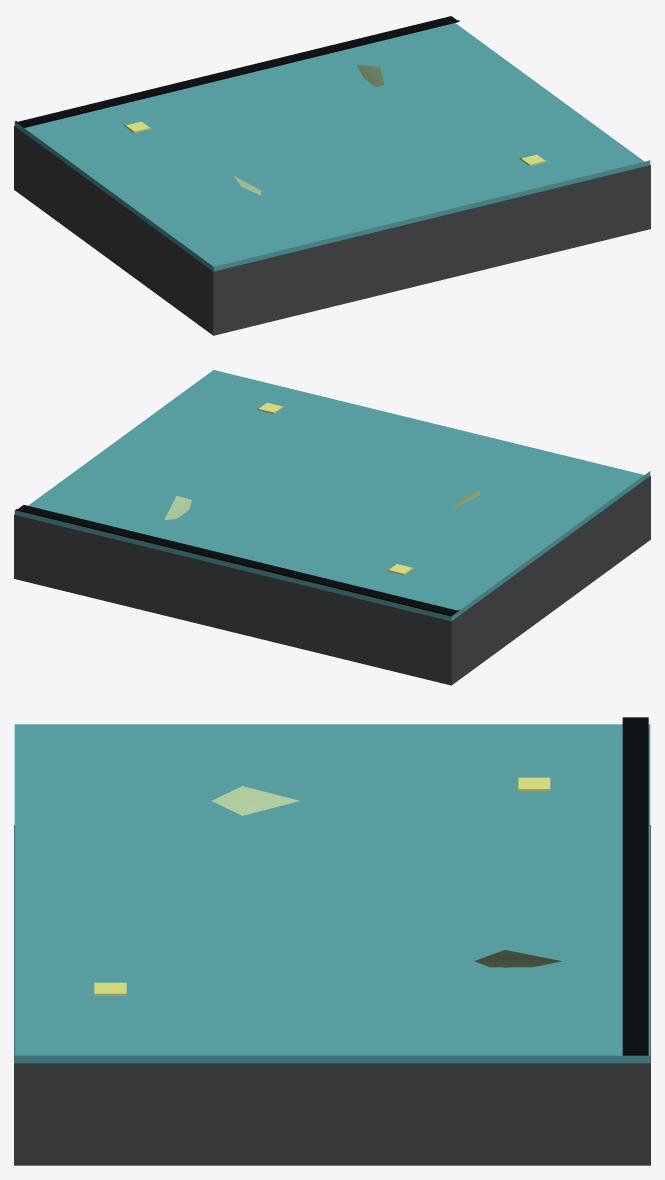
File: tt_climb_mat_300_2x15.glb
3 renders of one model, top to bottom at view 1: azimuth 30°, elevation 25°; view 2: azimuth 150°, elevation 25°; view 3: azimuth 270°, elevation 25°, orthographic. The views are drawn at different scales.
Parts seen in each view (by area): view 1: Mat_Cover, Mat_Core, Velcro_Seam_Flap, Leaf_Print; view 2: Mat_Cover, Mat_Core, Velcro_Seam_Flap, Leaf_Print; view 3: Mat_Cover, Mat_Core, Velcro_Seam_Flap, Leaf_Print, Ball_Dots.
Part boxes in pixels (left/top/right/bottom): Mat_Cover: left=14, top=23, right=650, bottom=271; Mat_Core: left=14, top=126, right=650, bottom=335; Velcro_Seam_Flap: left=15, top=16, right=459, bottom=127; Leaf_Print: left=233, top=65, right=384, bottom=195; Mat_Cover: left=14, top=370, right=650, bottom=621; Mat_Core: left=14, top=475, right=650, bottom=685; Velcro_Seam_Flap: left=15, top=505, right=459, bottom=616; Leaf_Print: left=164, top=490, right=480, bottom=519; Mat_Cover: left=14, top=724, right=650, bottom=1063; Mat_Core: left=14, top=825, right=650, bottom=1165; Velcro_Seam_Flap: left=622, top=717, right=648, bottom=1055; Leaf_Print: left=212, top=786, right=561, bottom=967; Ball_Dots: left=94, top=777, right=550, bottom=995.
Size of what is drawn, in the model's own units: 2 by 0.3412 by 1.58.
5 materials, 1 textured.
